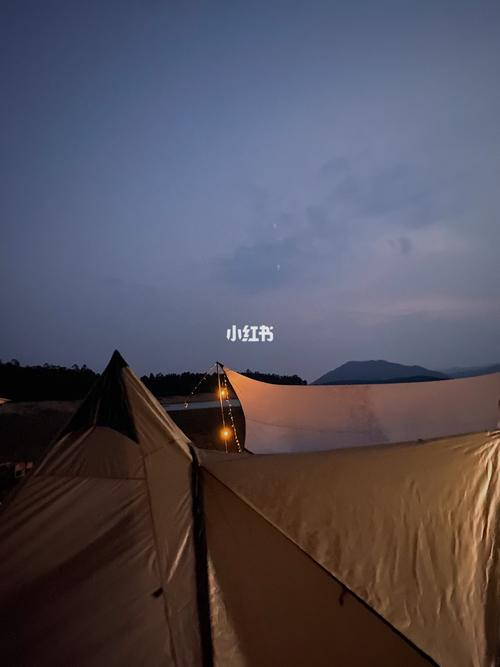buildings: (0, 365, 478, 654)
sky_cloud: (13, 76, 477, 358)
